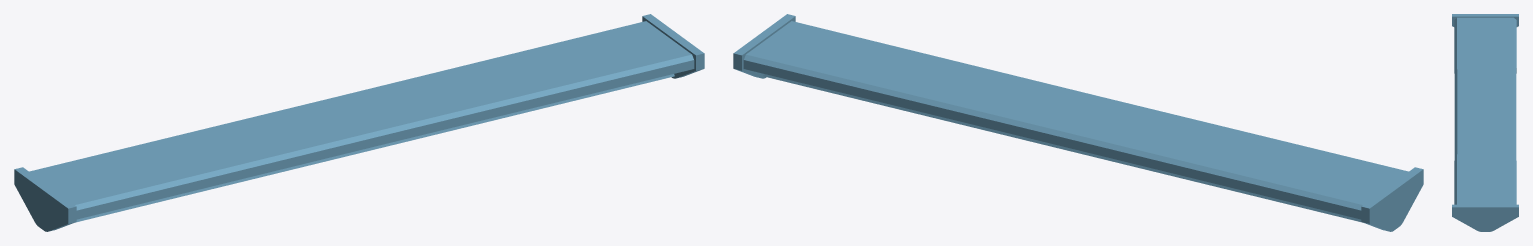
File: Prop_Ceiling_Lamp_B.fbx
The picture shows the model from 3 angles, left to right: view 1: azimuth 30°, elevation 25°; view 2: azimuth 150°, elevation 25°; view 3: azimuth 270°, elevation 25°; orthographic projection. The views are drawn at different scales.
Visible parts, largest first — view 1: Prop_Ceiling_Lamp_B; view 2: Prop_Ceiling_Lamp_B; view 3: Prop_Ceiling_Lamp_B.
Part boxes in pixels (left/top/right/bottom): Prop_Ceiling_Lamp_B: left=14, top=14, right=704, bottom=231; Prop_Ceiling_Lamp_B: left=733, top=14, right=1423, bottom=231; Prop_Ceiling_Lamp_B: left=1452, top=14, right=1518, bottom=231.
Size of the model in its own units: 33.26 by 227 by 13.59.
